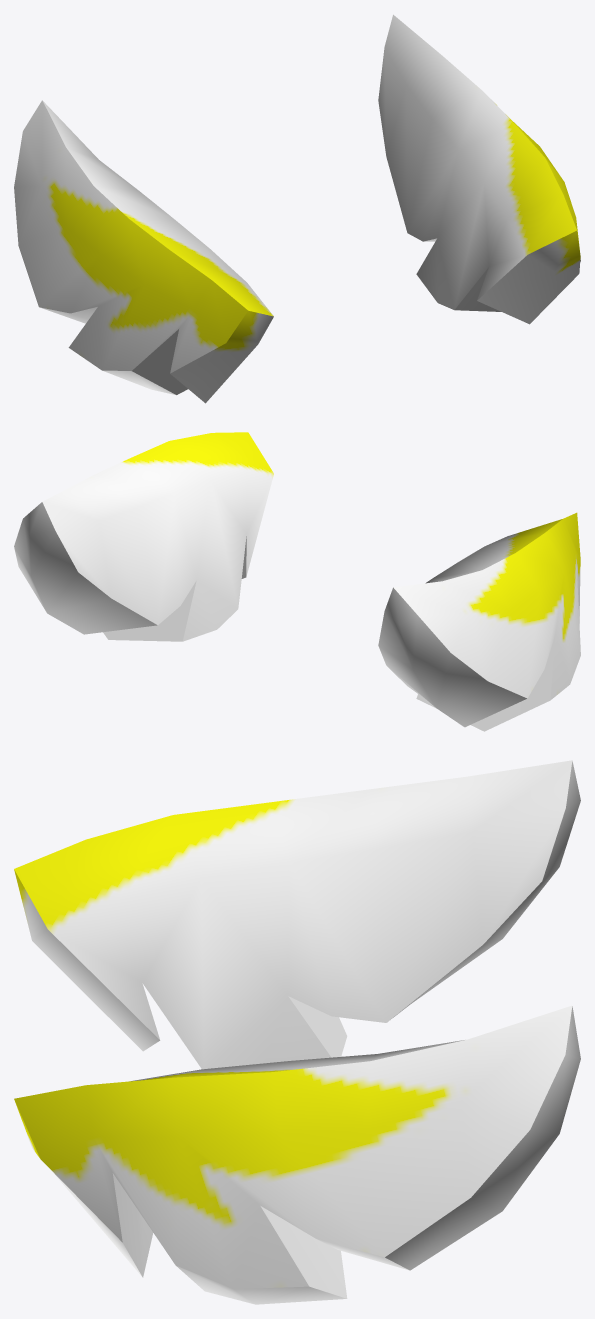
The model's file is windswept.glb.
3 views of the same model, one above another, from view 1: azimuth 30°, elevation 25°; view 2: azimuth 150°, elevation 25°; view 3: azimuth 270°, elevation 25° (orthographic). The views are drawn at different scales.
Parts seen in each view (by area): view 1: Crest_3; view 2: Crest_3; view 3: Crest_3.
Boxes of the visible parts, x1,y1,x2,y2 form: Crest_3: [14, 14, 580, 403]; Crest_3: [14, 432, 580, 731]; Crest_3: [14, 760, 580, 1304].
Size of the model in its own units: 0.5182 by 0.2113 by 0.3638.
Materials: 1 (1 with a texture image).
